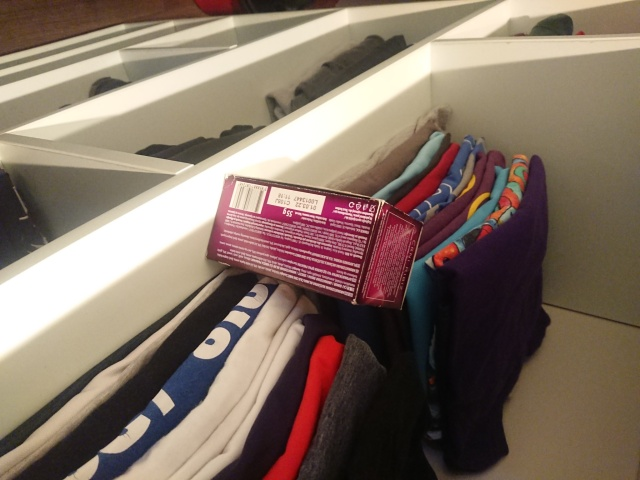Franck Black Currant Tea 60g: (203, 171, 426, 313)
